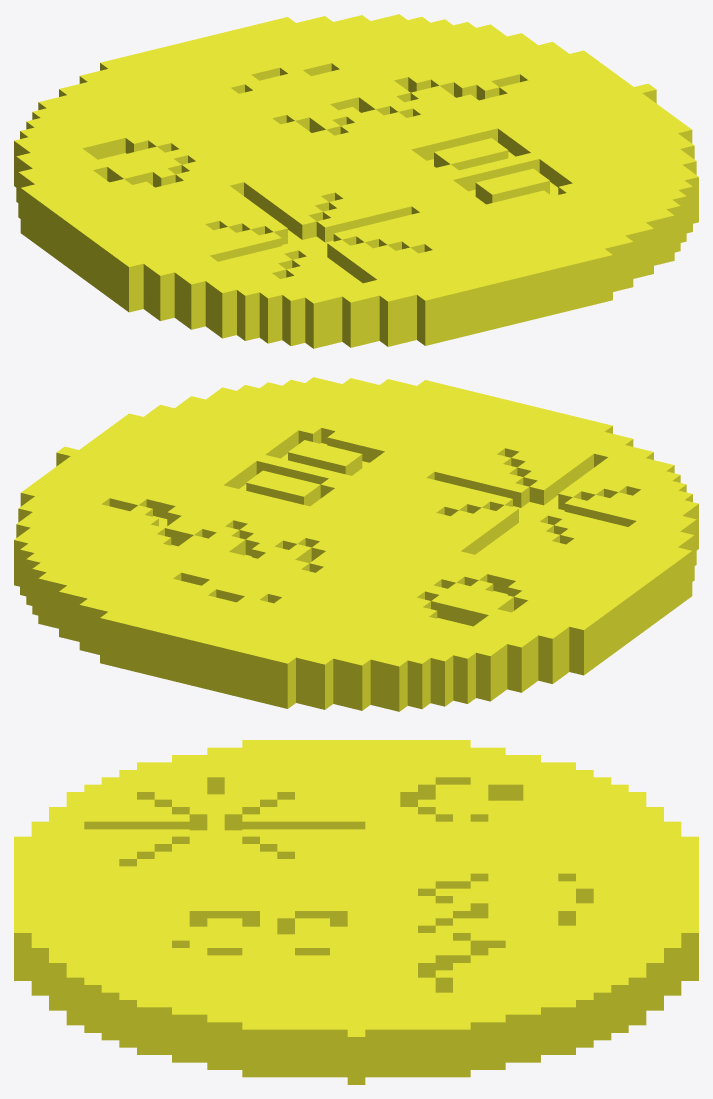
Rendered from goldenrecord.fbx.
3 views of the same model, one above another, from view 1: azimuth 30°, elevation 25°; view 2: azimuth 150°, elevation 25°; view 3: azimuth 270°, elevation 25° (orthographic). The views are drawn at different scales.
Visible parts, largest first — view 1: goldenrecord:Mesh; view 2: goldenrecord:Mesh; view 3: goldenrecord:Mesh.
Part boxes in pixels (left/top/right/bottom): goldenrecord:Mesh: left=14, top=14, right=698, bottom=348; goldenrecord:Mesh: left=14, top=377, right=698, bottom=711; goldenrecord:Mesh: left=14, top=740, right=698, bottom=1084.
Bounding box in the file's own units: 40 × 3 × 39.
Materials: 1 (1 with a texture image).
